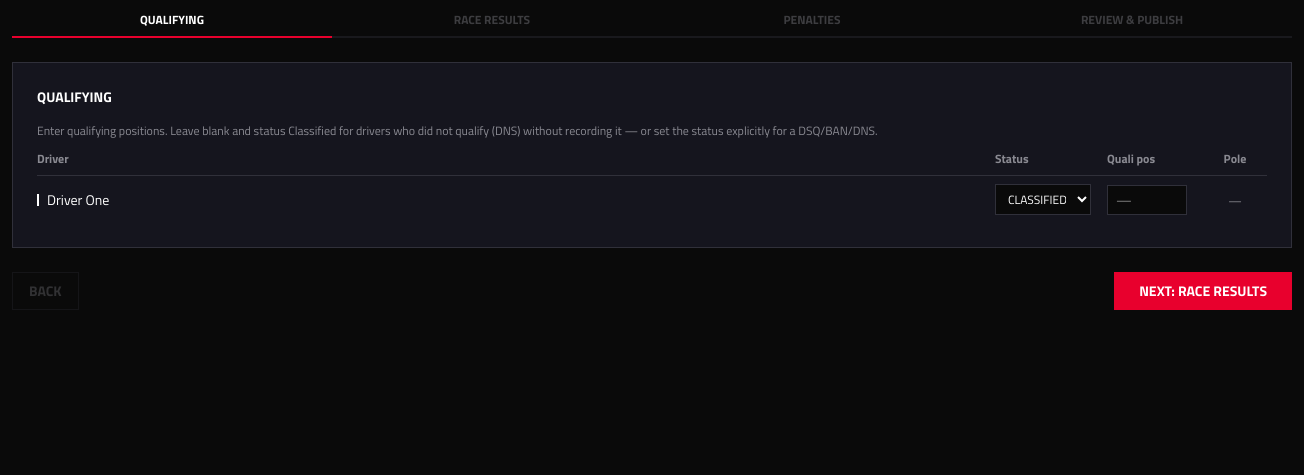
Test: ResultStepper team-as-of-date note (M7) › shows a note when the row's team differs from the driver's present-day team
Click the button "Next: Race Results".
click(1203, 291)  # box [1114,272,1292,310]
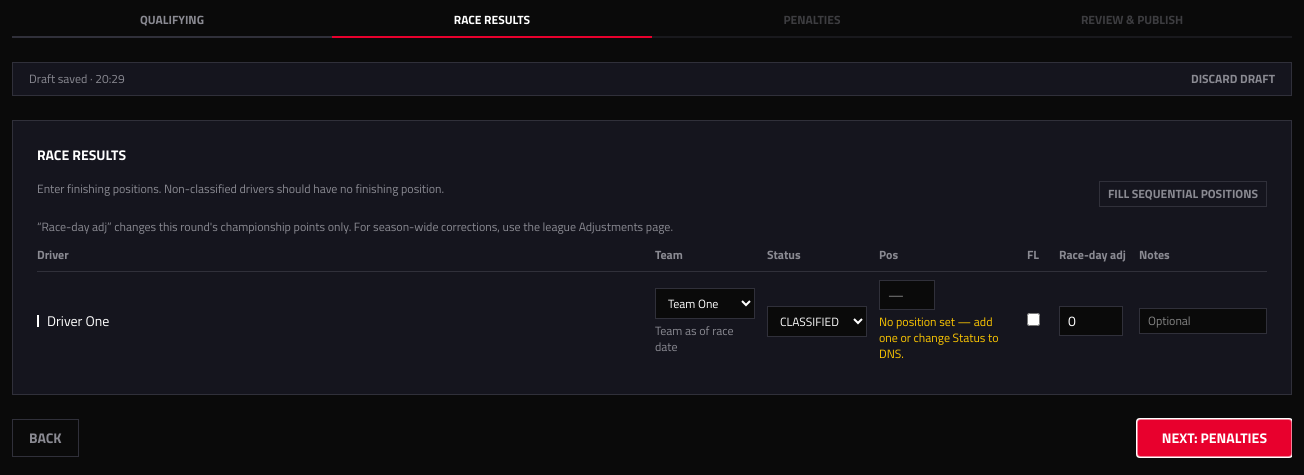
Expected: the text "Team as of race date" is shown, [655,320,734,356]
